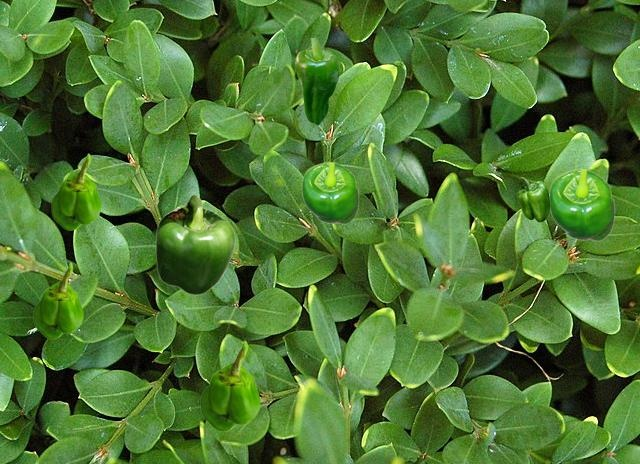bell_pepper: (155, 194, 234, 294), (200, 340, 259, 430), (549, 168, 614, 240), (33, 262, 82, 338), (51, 153, 100, 229), (295, 38, 338, 124), (301, 161, 358, 223), (517, 177, 549, 221)
